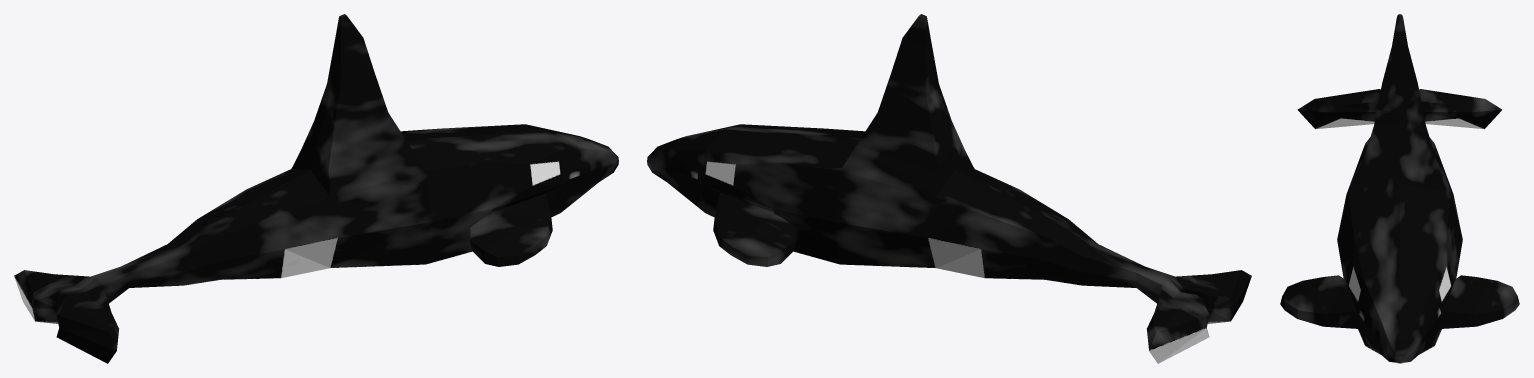
File: Orca2.fbx
3 views of the same model, side by side, from view 1: azimuth 30°, elevation 25°; view 2: azimuth 150°, elevation 25°; view 3: azimuth 270°, elevation 25° (orthographic).
Parts seen in each view (by area): view 1: Orca2; view 2: Orca2; view 3: Orca2.
Part boxes in pixels (left/top/right/bottom): Orca2: left=14, top=14, right=618, bottom=363; Orca2: left=647, top=14, right=1251, bottom=363; Orca2: left=1280, top=14, right=1519, bottom=363.
Size of the model in its own units: 6 by 2.56 by 2.19.
1 material, 1 textured.
